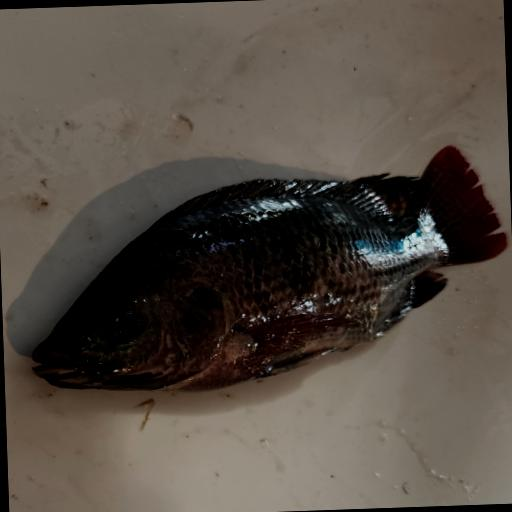Tilapia: (24, 143, 511, 397)
